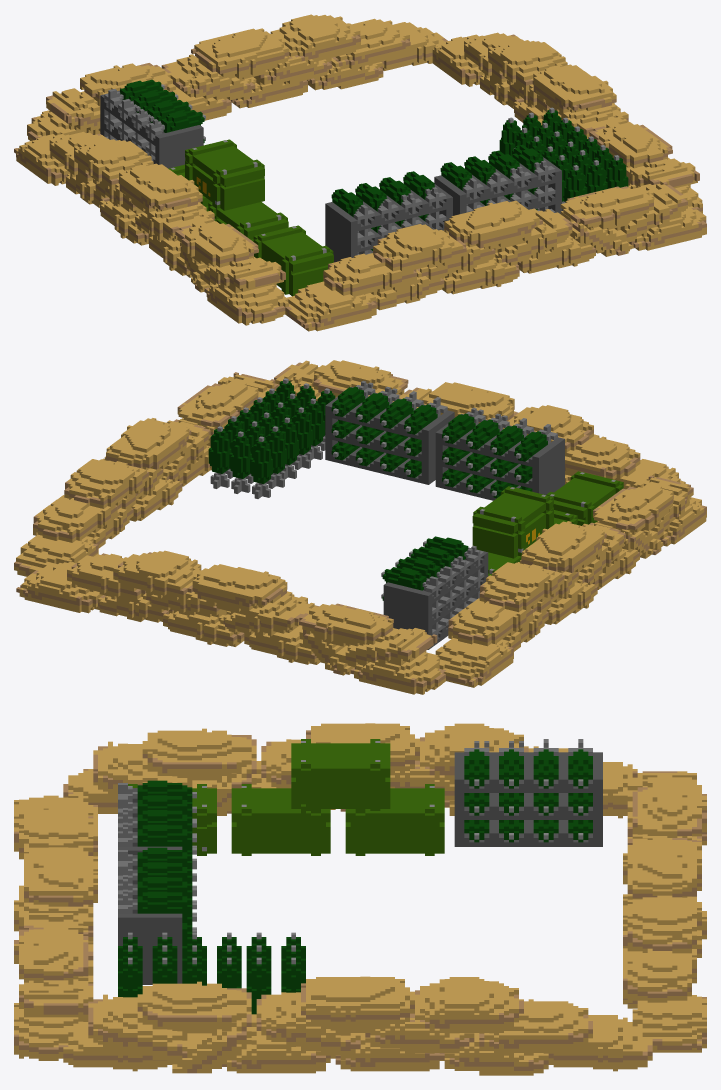
Rendered from mortar_v2.vox.obj.
3 views of the same model, one above another, from view 1: azimuth 30°, elevation 25°; view 2: azimuth 150°, elevation 25°; view 3: azimuth 270°, elevation 25° (orthographic). The views are drawn at different scales.
Bounding box in the file's own units: 13.8 × 2 × 14.
1 material, 1 textured.
